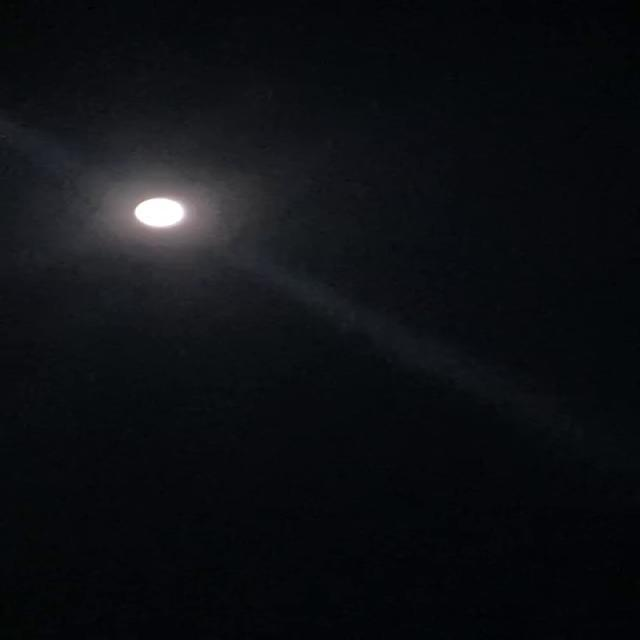moon: (110, 187, 194, 234)
